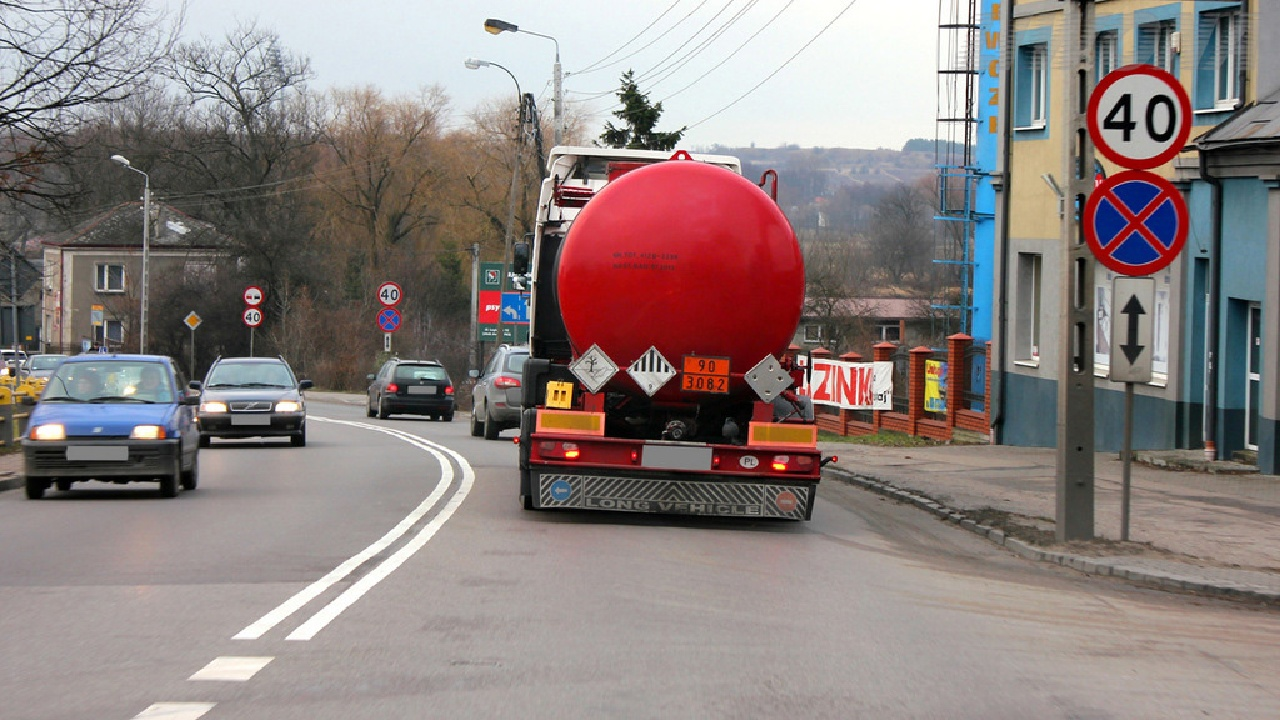B25: (242, 286, 264, 307)
B33_40: (1087, 64, 1192, 169), (377, 281, 403, 307), (242, 307, 264, 327)
B36: (1083, 170, 1190, 276), (376, 307, 402, 333)
D1: (183, 311, 203, 331)
